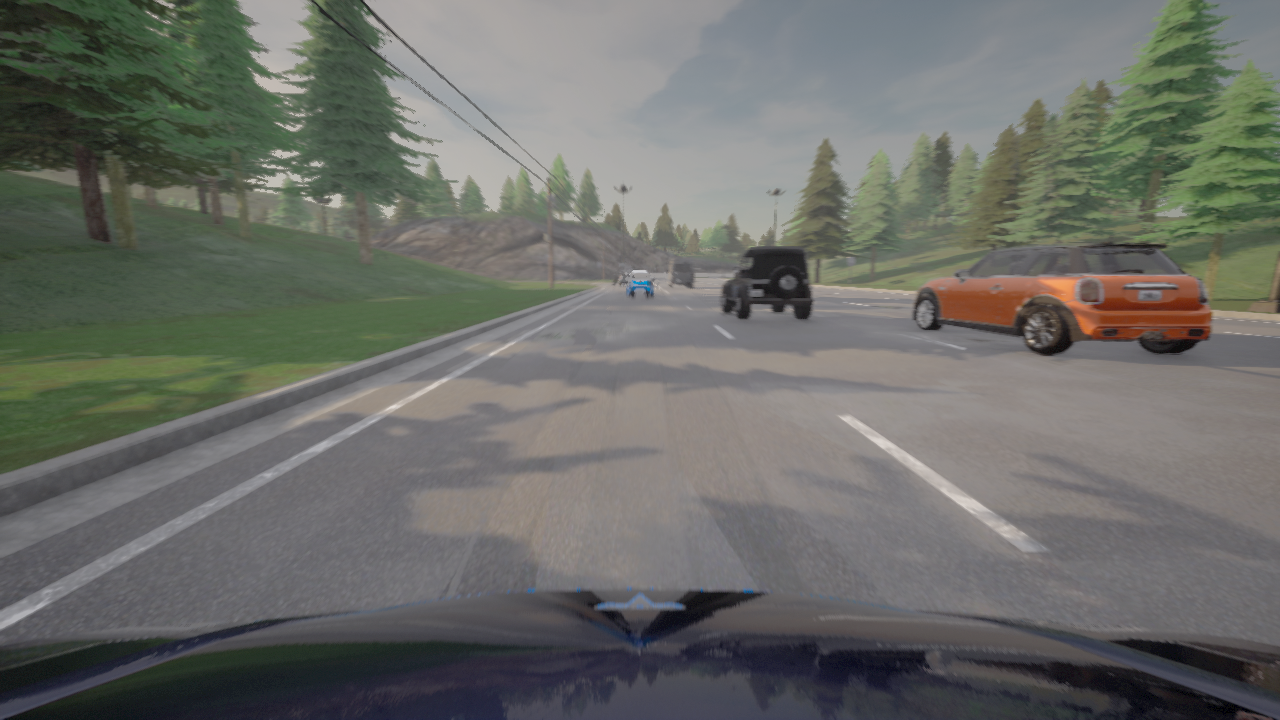cyclist: (0, 588, 1279, 719), (912, 234, 1210, 353), (721, 247, 813, 319), (666, 257, 693, 287), (626, 270, 653, 297), (612, 270, 632, 286)
